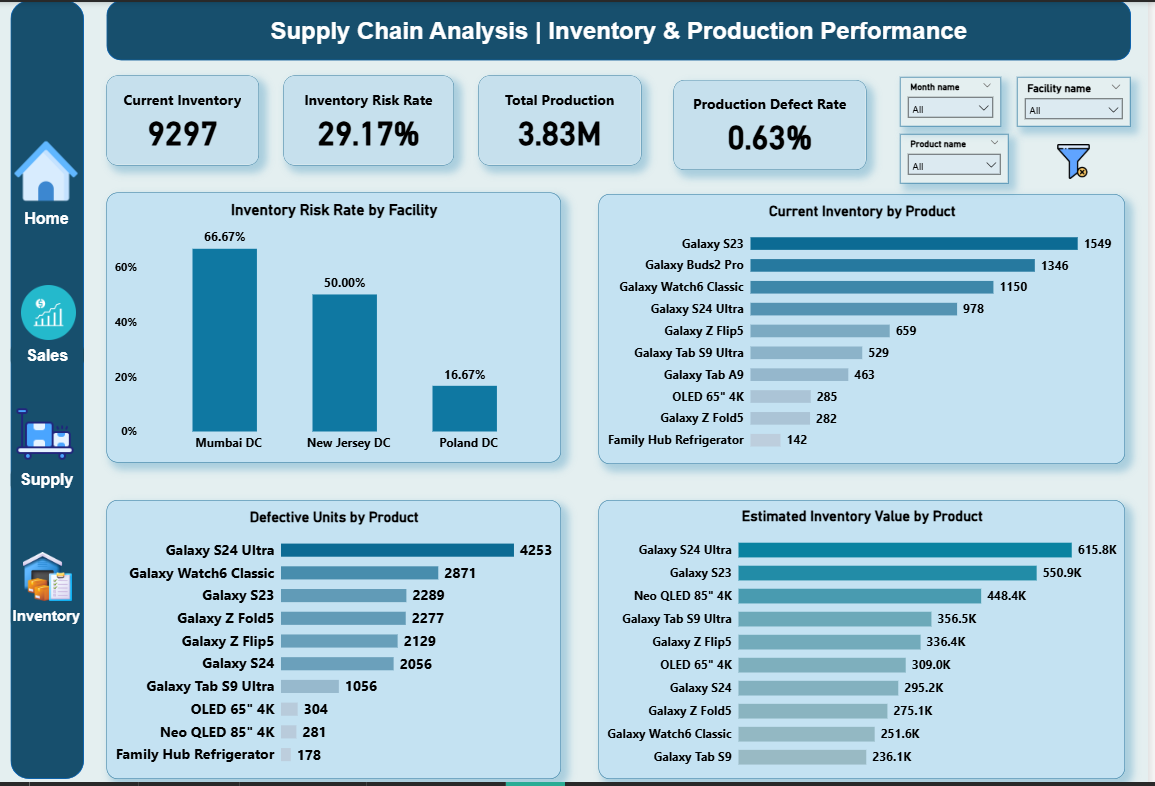

This screenshot's page, from the dashboard's own definition file:
{"tool":"powerbi","page":{"name":"Inventory","canvas":[1530,1100],"ordinal":3},"visuals":[{"type":"cardVisual","fields":{"Data":["Measure.Current Inventory"]},"box":[141.1,118.9,203.3,120],"z":0},{"type":"shape","box":[142,18,1366,80],"z":1000},{"type":"shape","box":[14,18,98,1038],"z":2000},{"type":"cardVisual","fields":{"Data":["Measure.Inventory Risk Rate"]},"box":[378.6,118.6,227.1,120],"z":3000},{"type":"cardVisual","fields":{"Data":["Measure.Total Production"]},"box":[638.6,118.6,217.1,120],"z":4000},{"type":"cardVisual","fields":{"Data":["Measure.Actual Defect Rate %"]},"box":[898.6,124.3,257.1,120],"z":5000},{"type":"clusteredBarChart","title":"Current Inventory by Product","fields":{"Category":["dim_product.product_name"],"Y":["Measure.Current Inventory"]},"box":[798,276,702,360],"z":6000},{"type":"clusteredBarChart","title":"Defective Units by Product","fields":{"Y":["Measure.Total Defective Units"],"Category":["dim_product.product_name"]},"box":[142,684,606,372],"z":7000},{"type":"clusteredBarChart","title":"Estimated Inventory Value by Product","fields":{"Y":["Measure.Estimated Inventory Value"],"Category":["dim_product.product_name"]},"box":[798,684,702,372],"z":8000},{"type":"slicer","fields":{"Values":["dim_date.month_name"]},"box":[1200.8,119.2,134.6,66.2],"z":9000},{"type":"slicer","fields":{"Values":["dim_product.product_name"]},"box":[1200.8,196.2,144.6,66.2],"z":10000},{"type":"slicer","fields":{"Values":["dim_facility.facility_name"]},"box":[1356.2,119.2,151.5,66.2],"z":11000},{"type":"image","box":[1391.4,204.3,78.6,57.1],"z":12000},{"type":"clusteredColumnChart","title":"Inventory Risk Rate by Facility","fields":{"Category":["dim_facility.facility_name"],"Y":["Measure.Inventory Risk Rate"]},"box":[142,274,606,360],"z":13000}]}

Visuals, with their boxes on the page's 1530x1100 design canvas (x1, y1, x2, y2). These are canvas units, not pixel positions in the 1155x786 screenshot, which may show the page scaled, cropped or inside an application window:
cardVisual - Measure.Current Inventory: {"x1": 141, "y1": 119, "x2": 344, "y2": 239}
shape: {"x1": 142, "y1": 18, "x2": 1508, "y2": 98}
shape: {"x1": 14, "y1": 18, "x2": 112, "y2": 1056}
cardVisual - Measure.Inventory Risk Rate: {"x1": 379, "y1": 119, "x2": 606, "y2": 239}
cardVisual - Measure.Total Production: {"x1": 639, "y1": 119, "x2": 856, "y2": 239}
cardVisual - Measure.Actual Defect Rate %: {"x1": 899, "y1": 124, "x2": 1156, "y2": 244}
"Current Inventory by Product" clusteredBarChart: {"x1": 798, "y1": 276, "x2": 1500, "y2": 636}
"Defective Units by Product" clusteredBarChart: {"x1": 142, "y1": 684, "x2": 748, "y2": 1056}
"Estimated Inventory Value by Product" clusteredBarChart: {"x1": 798, "y1": 684, "x2": 1500, "y2": 1056}
slicer - dim_date.month_name: {"x1": 1201, "y1": 119, "x2": 1335, "y2": 185}
slicer - dim_product.product_name: {"x1": 1201, "y1": 196, "x2": 1345, "y2": 262}
slicer - dim_facility.facility_name: {"x1": 1356, "y1": 119, "x2": 1508, "y2": 185}
image: {"x1": 1391, "y1": 204, "x2": 1470, "y2": 261}
"Inventory Risk Rate by Facility" clusteredColumnChart: {"x1": 142, "y1": 274, "x2": 748, "y2": 634}
